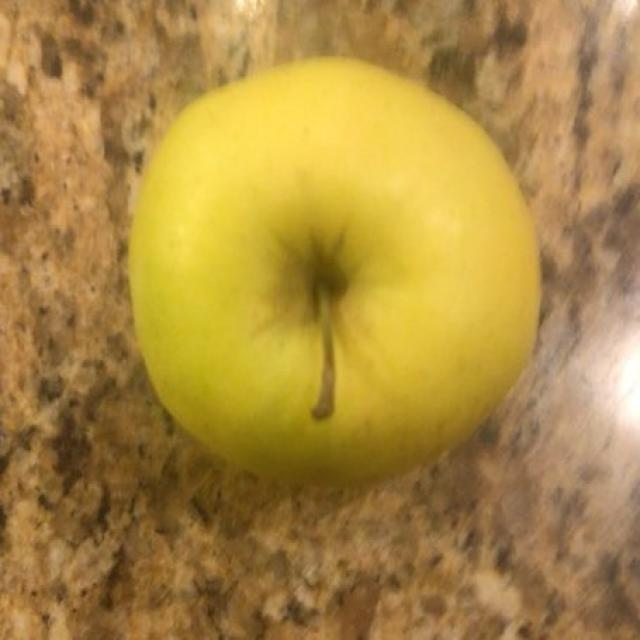apple: (137, 60, 537, 479)
